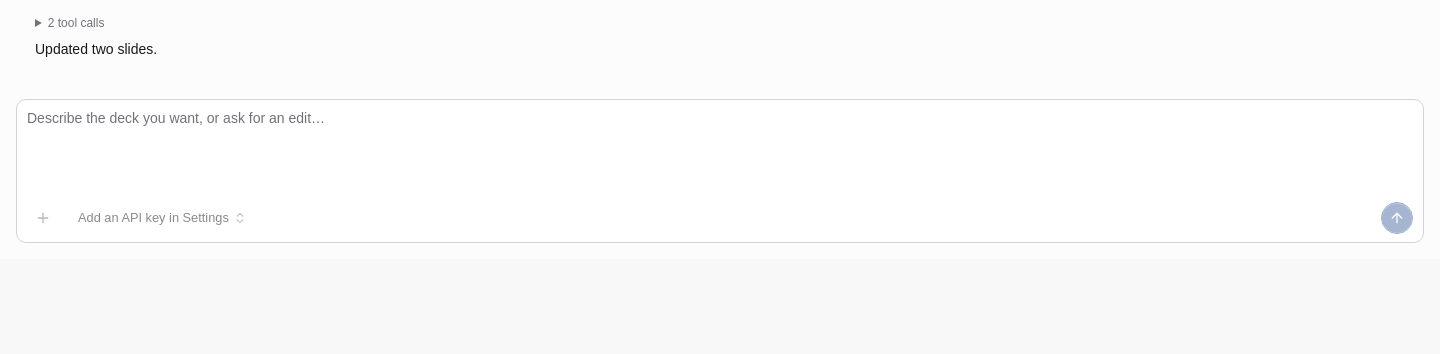
ChatPanel submit control › collapses consecutive tool calls into one unboxed text group
Expected: the text "Read slide 1" is not shown
Click the heading "2 tool calls". click: (76, 23)
box: [48,16,104,30]
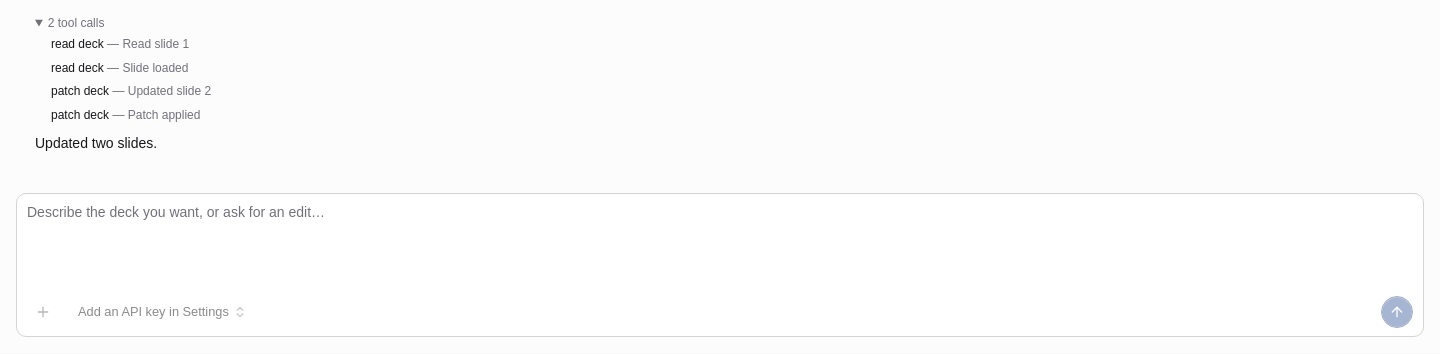
Result: the text "— Read slide 1" is shown at [104,37,189,51]
Result: the text "— Patch applied" is shown at [109,108,200,122]
